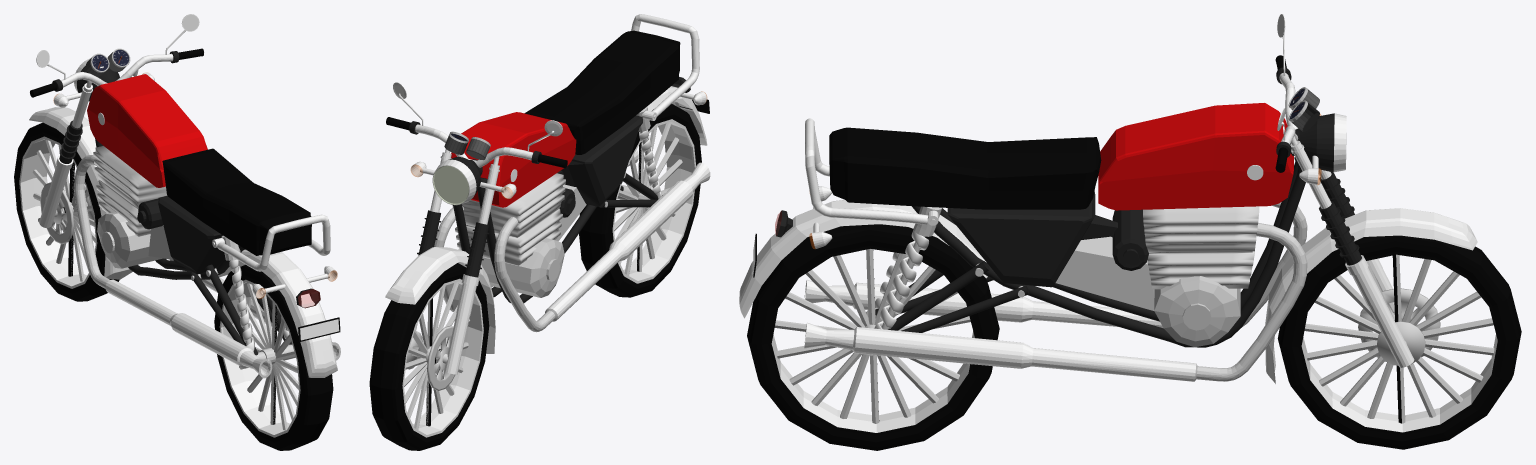
The model's file is motorbike.glb.
The picture shows the model from 3 angles, left to right: view 1: azimuth 30°, elevation 25°; view 2: azimuth 150°, elevation 25°; view 3: azimuth 270°, elevation 25°; orthographic projection. The views are drawn at different scales.
Visible parts, largest first — view 1: back_wheel, seat, Front_wheel, tank, exhaust, back_water, engine_1, engine_2, engine_4, front_bumper, Front_water, fender_back (+16 smaller); view 2: Front_wheel, back_wheel, seat, exhaust, tank, engine_1, front_bumper, engine_2, Front_water, engine_4, Headlight, frame (+14 smaller); view 3: Front_wheel, back_wheel, seat, tank, exhaust, engine_2, engine_1, frame, Front_water, front_bumper, engine_4, back_water (+10 smaller).
Part boxes in pixels (box(x1,y1,x2,y2)): back_wheel: box(214, 264, 333, 450); seat: box(162, 148, 311, 255); Front_wheel: box(14, 122, 119, 301); tank: box(87, 74, 207, 187); exhaust: box(74, 155, 340, 378); back_water: box(218, 249, 337, 377); engine_1: box(93, 146, 167, 236); engine_2: box(158, 195, 245, 273); engine_4: box(97, 212, 163, 268); front_bumper: box(39, 69, 138, 227); Front_water: box(29, 107, 132, 279); fender_back: box(217, 214, 330, 271); Front_wheel: box(369, 263, 489, 450); back_wheel: box(579, 104, 701, 297); seat: box(524, 30, 680, 154); exhaust: box(434, 150, 710, 332); tank: box(451, 112, 576, 207); engine_1: box(452, 173, 565, 265); front_bumper: box(415, 149, 499, 374); engine_2: box(557, 115, 642, 206); Front_water: box(385, 247, 495, 353); engine_4: box(458, 238, 564, 297); Headlight: box(432, 157, 482, 205); frame: box(453, 177, 596, 303); Front_wheel: box(1277, 235, 1521, 449); back_wheel: box(747, 224, 999, 450); seat: box(829, 127, 1101, 209); tank: box(1098, 103, 1293, 210); exhaust: box(804, 202, 1307, 381); engine_2: box(947, 191, 1117, 287); engine_1: box(1143, 206, 1259, 289); frame: box(911, 157, 1305, 347); Front_water: box(1265, 208, 1477, 383); front_bumper: box(1290, 128, 1414, 367); engine_4: box(1154, 276, 1240, 347); back_water: box(739, 200, 987, 318).
Bounding box in the file's own units: 0.3287 × 0.5427 × 1.
16 materials, 2 textured.
